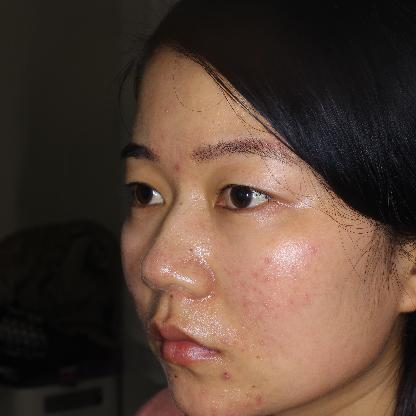Blackheads: (216, 365, 235, 380), (184, 243, 198, 258), (165, 291, 177, 301), (172, 372, 181, 382)
